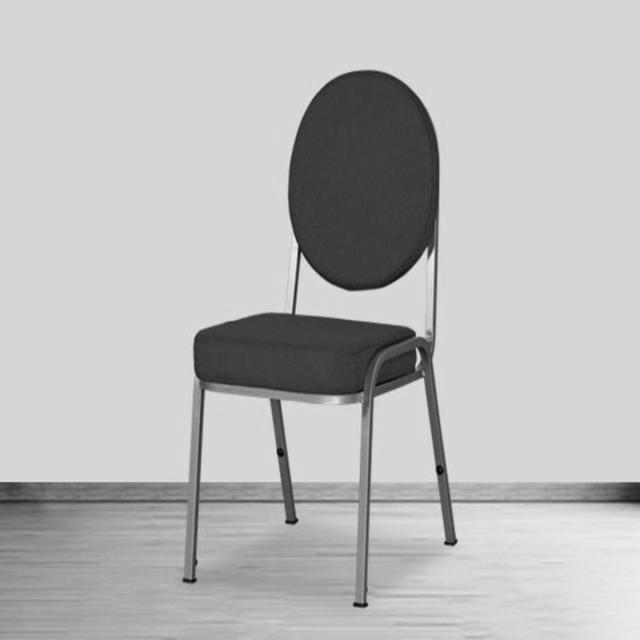chair: (178, 65, 460, 614)
